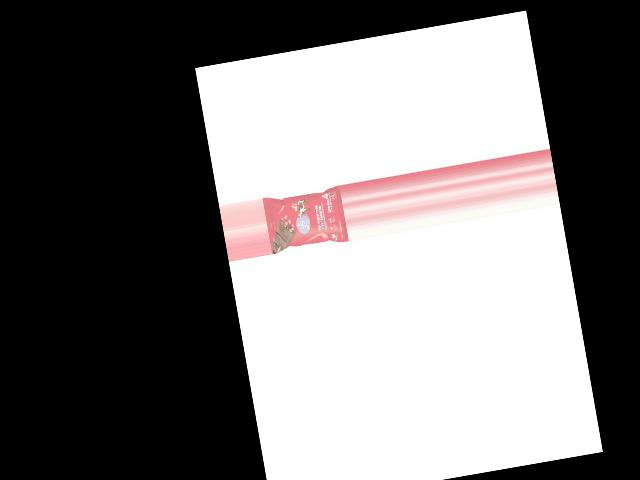chocolate: (263, 187, 349, 255)
